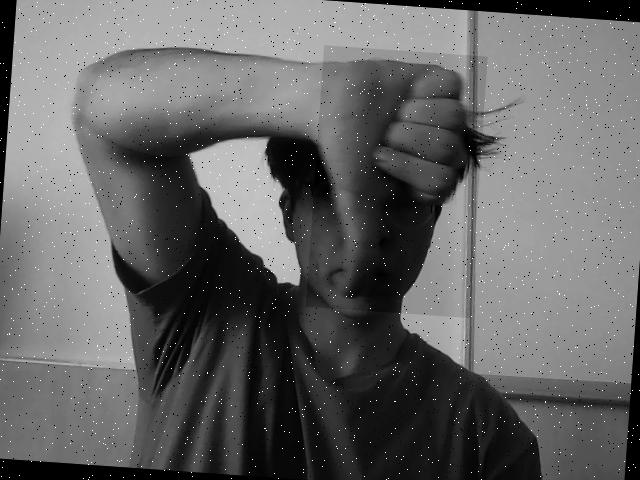bad: (316, 53, 481, 309)
